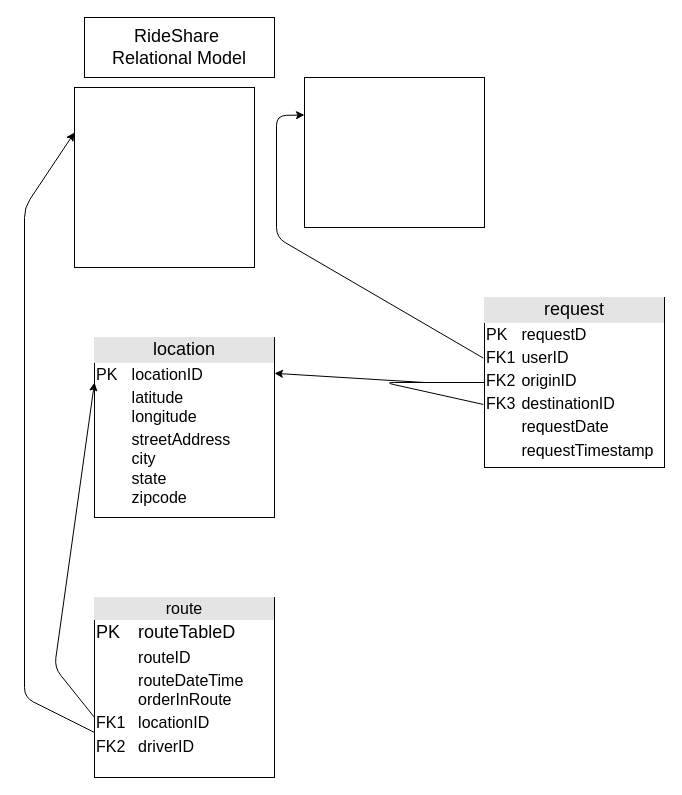
Image size: 682x795. Some labels were removed from this diagram. Here are the shapes that lost their labels. From the top down, the box of each, then its label:
(304, 76, 484, 228): user PK userID email firstName lastName password
(74, 86, 254, 268): driver PK driverID email firstName lastName password
